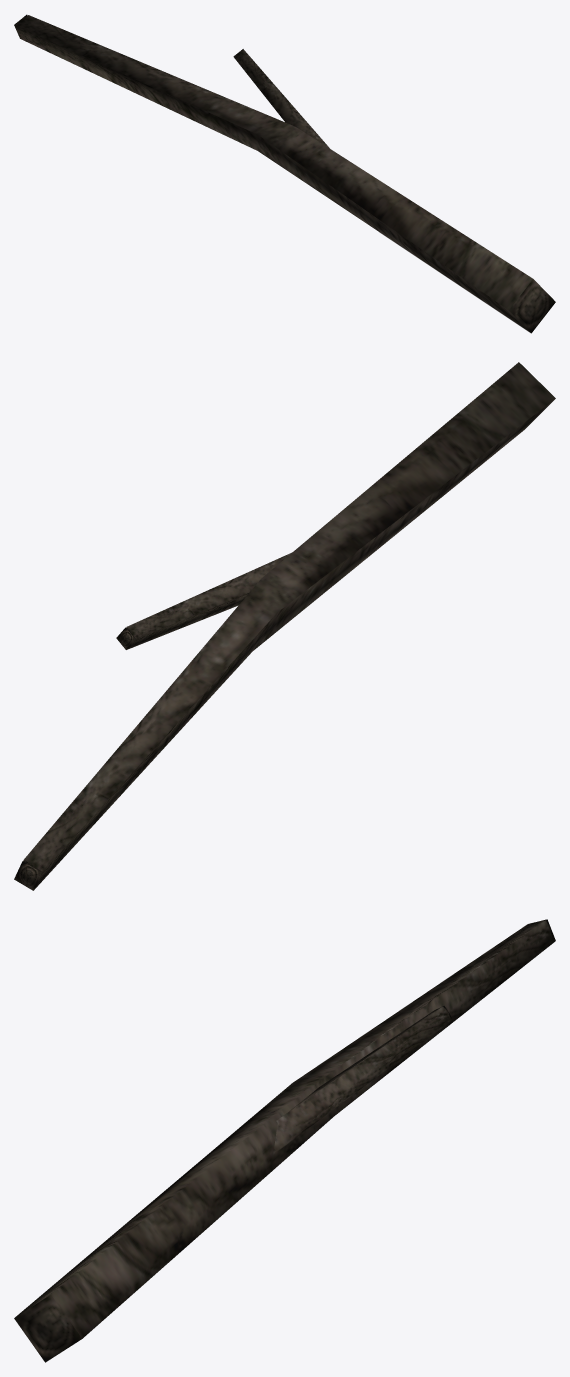
File: MEP_S_Branch_06.fbx
3 renders of one model, top to bottom at view 1: azimuth 30°, elevation 25°; view 2: azimuth 150°, elevation 25°; view 3: azimuth 330°, elevation 25°, orthographic. The views are drawn at different scales.
Parts seen in each view (by area): view 1: MEP_S_Branch_06; view 2: MEP_S_Branch_06; view 3: MEP_S_Branch_06.
Part boxes in pixels (bbox=[...]): MEP_S_Branch_06: bbox=[14, 14, 555, 333]; MEP_S_Branch_06: bbox=[14, 362, 555, 890]; MEP_S_Branch_06: bbox=[14, 919, 555, 1362].
Size of the model in its own units: 0.5129 by 0.4032 by 4.13.
